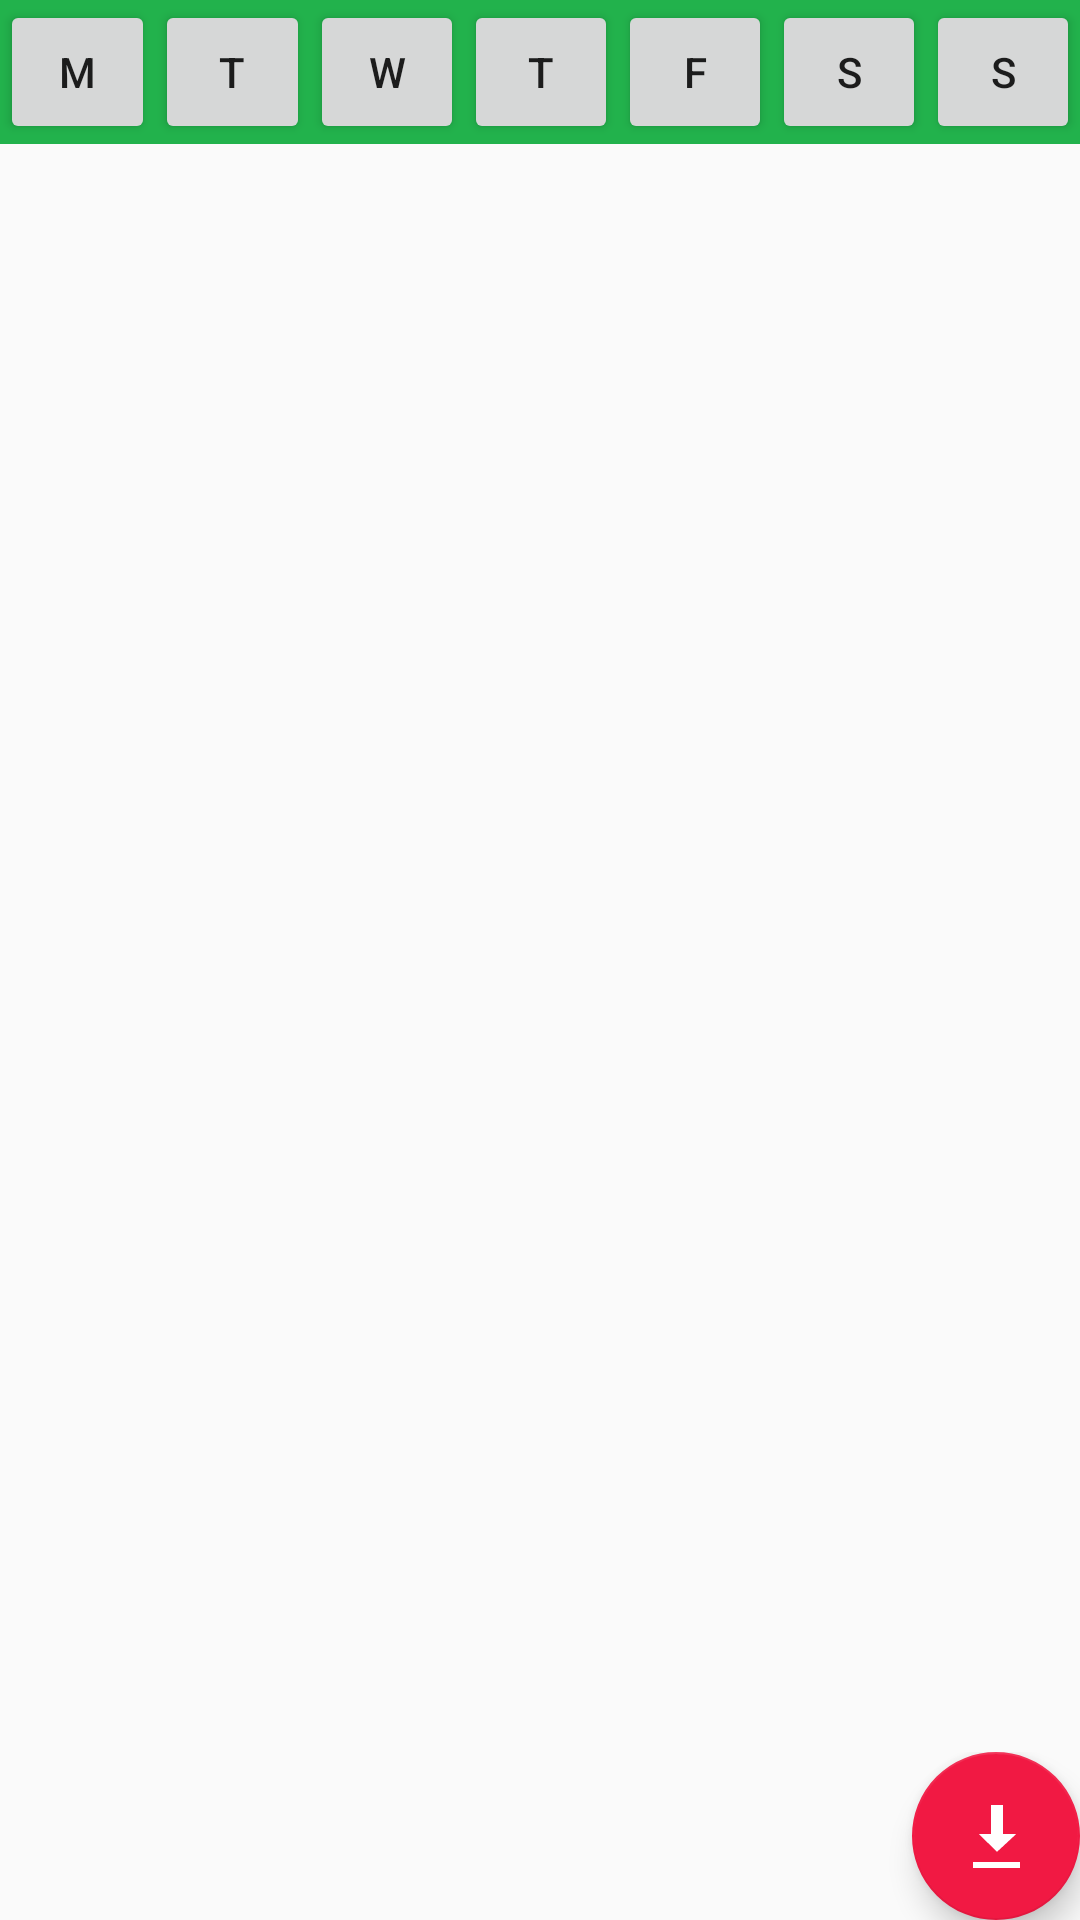

Icons on this 1080×1920 Android screen, each with its box as box=[x1, y1, x2, y2]:
download done: box=[912, 1752, 1080, 1920]
